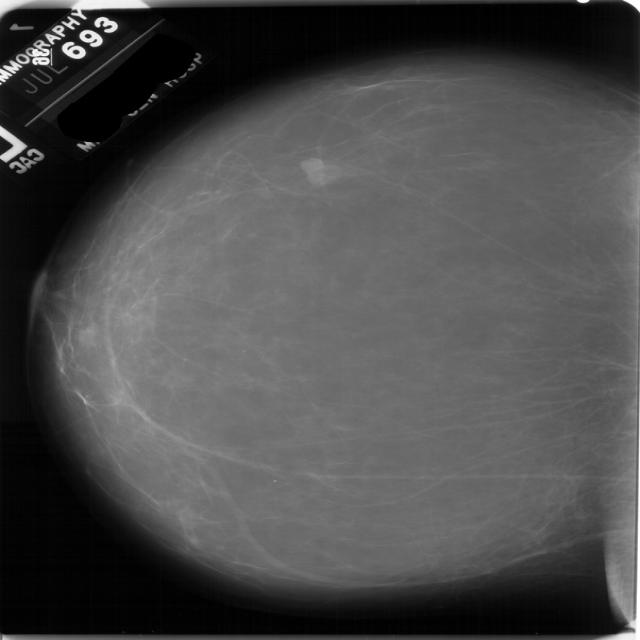tumour: (296, 156, 326, 183)
